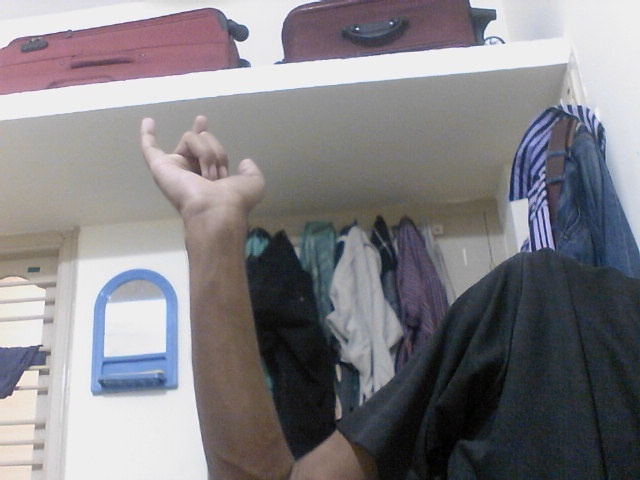hand: (136, 112, 271, 219)
